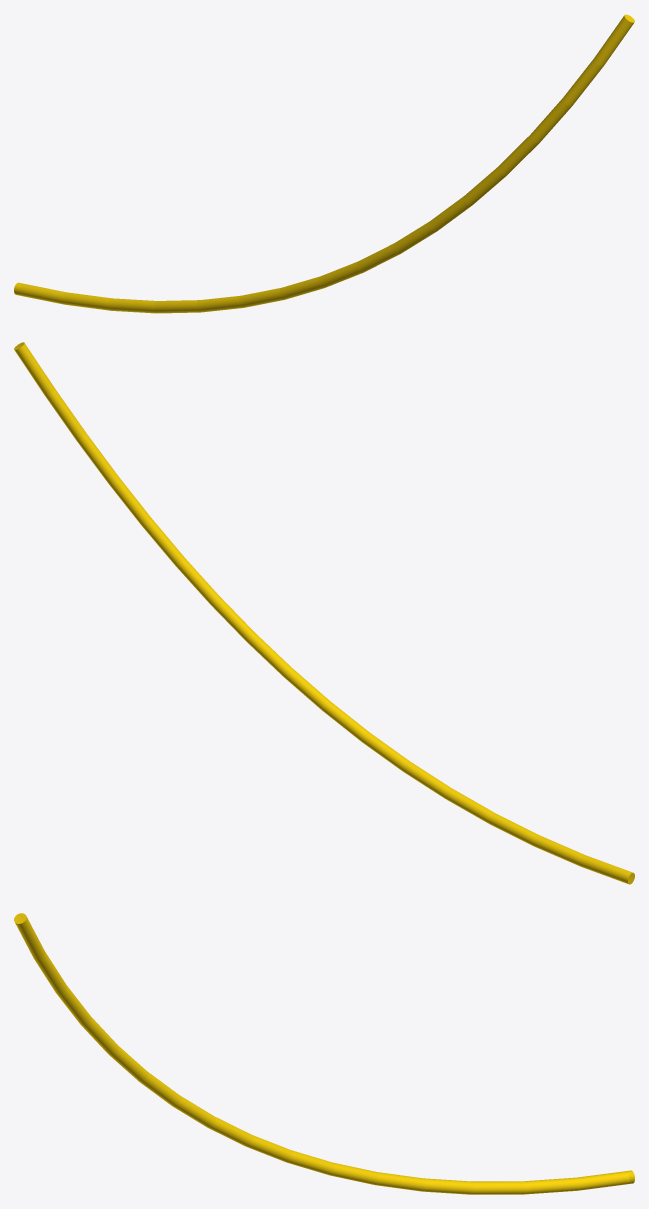
File: Event_420094457_track_12.fbx
The picture shows the model from 3 angles, top to bottom: view 1: azimuth 30°, elevation 25°; view 2: azimuth 210°, elevation 25°; view 3: azimuth 270°, elevation 25°; orthographic projection. The views are drawn at different scales.
Parts seen in each view (by area): view 1: Model; view 2: Model; view 3: Model.
Part boxes in pixels (<box>): Model: <box>14,14,634,313</box>; Model: <box>14,342,634,884</box>; Model: <box>14,913,634,1194</box>.
Size of the model in its own units: 1.23 by 1.45 by 1.86.
